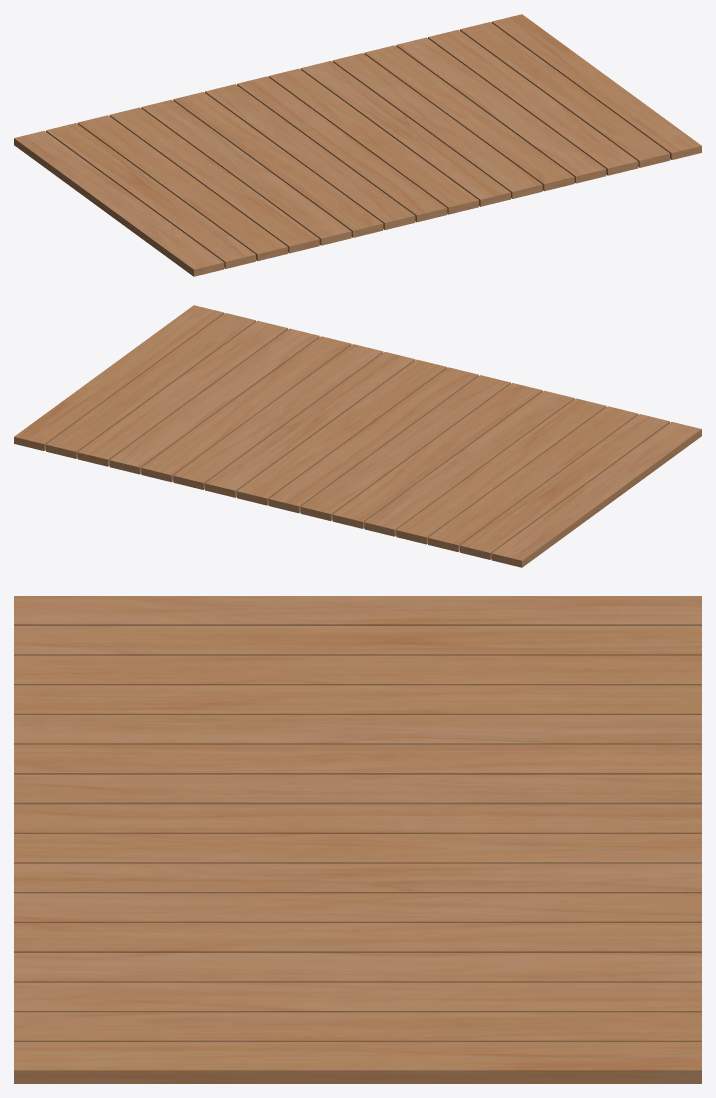
File: KT floor kit.glb
3 views of the same model, one above another, from view 1: azimuth 30°, elevation 25°; view 2: azimuth 150°, elevation 25°; view 3: azimuth 270°, elevation 25° (orthographic). The views are drawn at different scales.
Parts seen in each view (by area): view 1: KT floor kit; view 2: KT floor kit; view 3: KT floor kit.
Boxes of the visible parts, x1,y1,x2,y2 form: KT floor kit: (14,14,701,276); KT floor kit: (14,305,701,567); KT floor kit: (14,596,701,1083).
Size of the model in its own units: 2.36 by 0.3362 by 1.45.
2 materials, 1 textured.
